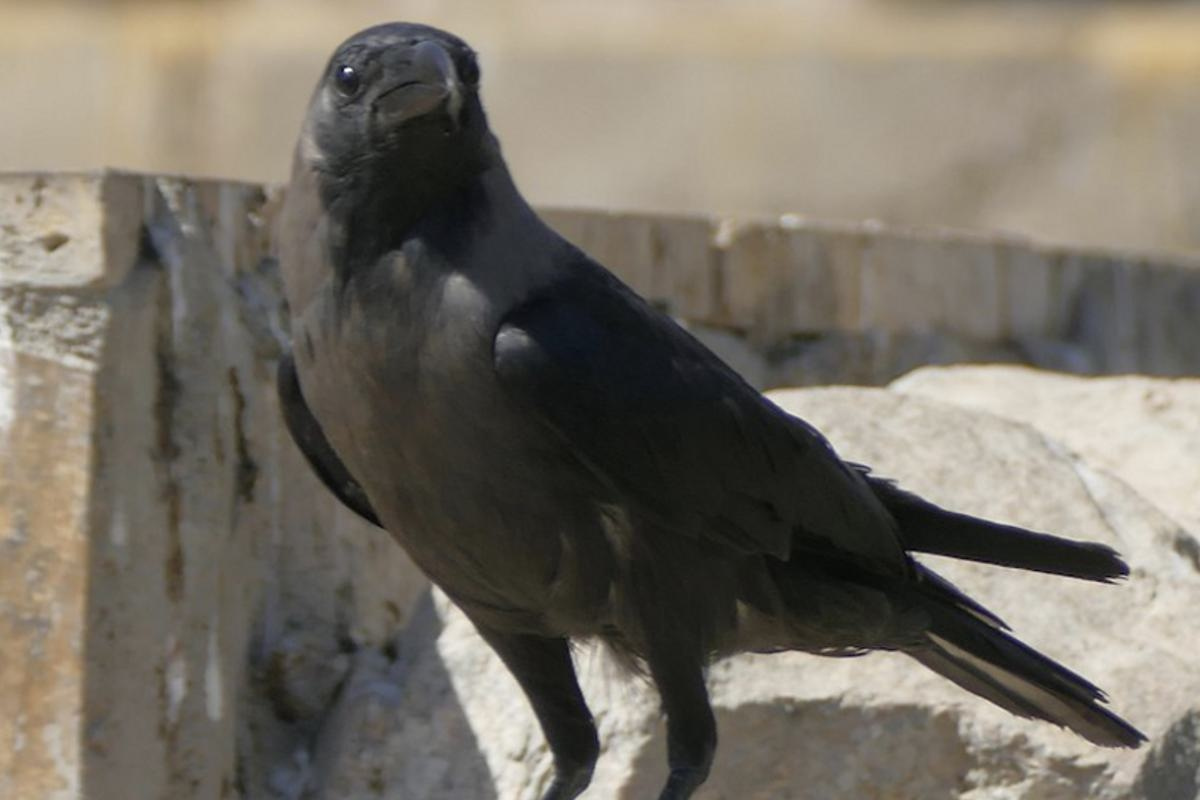crow: (256, 10, 1143, 800)
